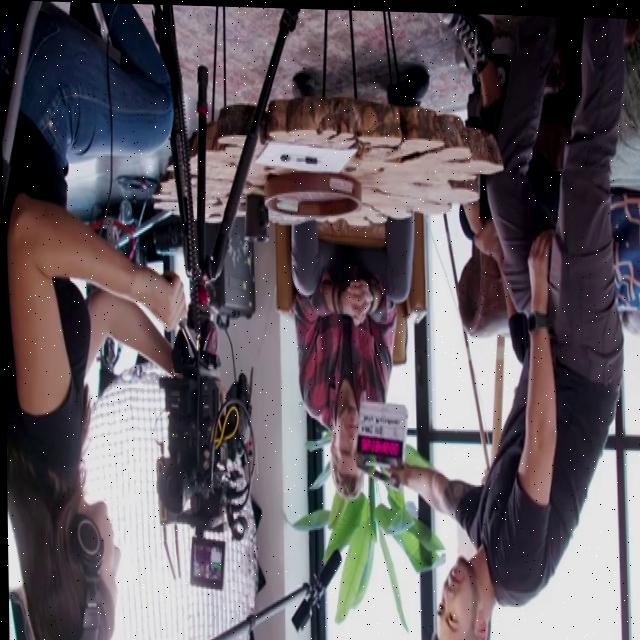Clapperboard: (352, 400, 413, 495)
